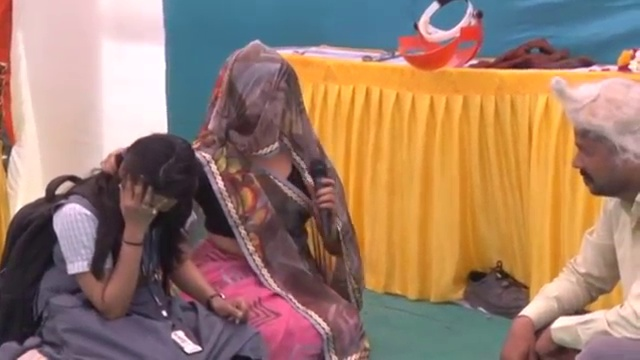helmet_off: (211, 36, 306, 157), (561, 87, 640, 206), (113, 136, 193, 218)
person: (6, 136, 271, 360), (197, 38, 366, 360), (505, 86, 640, 360)
